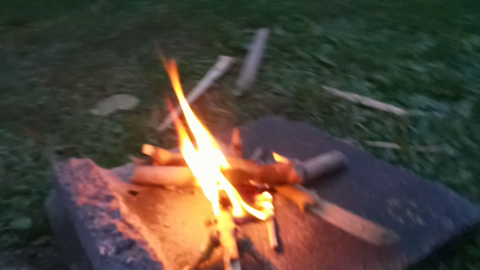fire: (153, 51, 241, 202)
